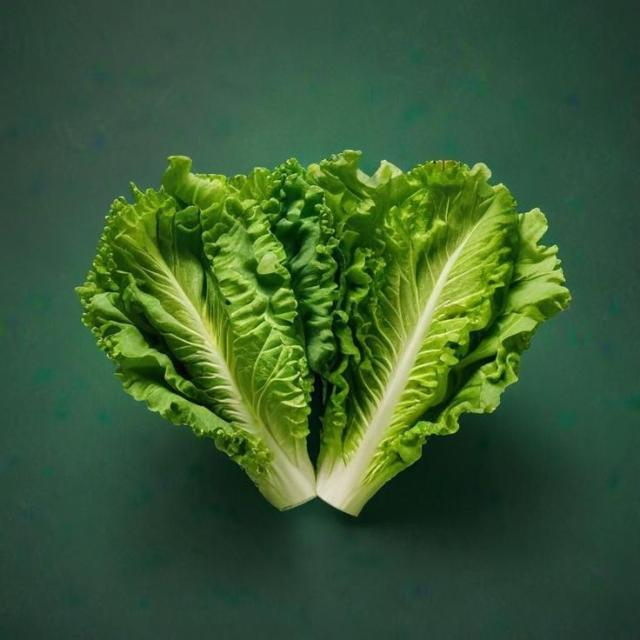lettuce: (78, 152, 570, 514), (309, 152, 569, 514), (79, 157, 314, 508)
